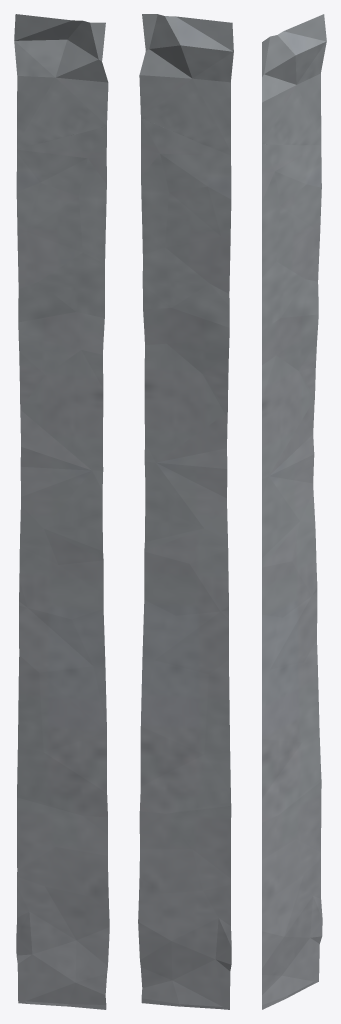
3 renders of one model, left to right at view 1: azimuth 30°, elevation 25°; view 2: azimuth 210°, elevation 25°; view 3: azimuth 270°, elevation 25°, orthographic. The views are drawn at different scales.
Size of the model in its own units: 0.0556 by 0.8373 by 0.0508.
1 material, 1 textured.
